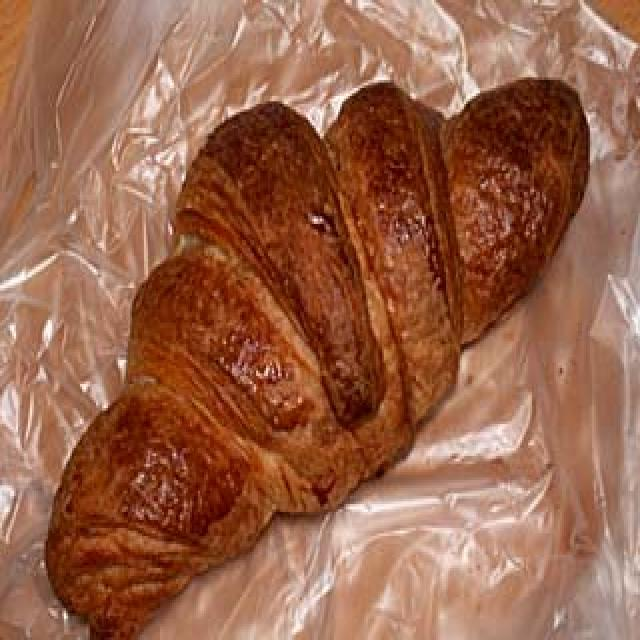面包点心: (32, 48, 592, 640)
